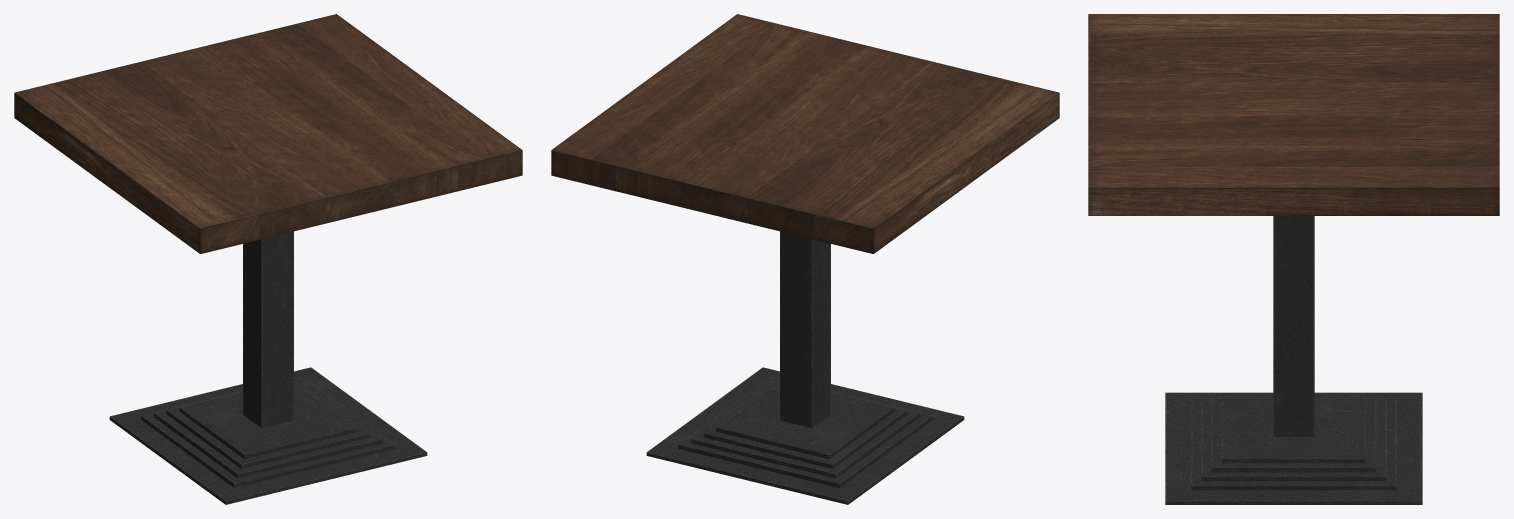
The picture shows the model from 3 angles, left to right: view 1: azimuth 30°, elevation 25°; view 2: azimuth 150°, elevation 25°; view 3: azimuth 270°, elevation 25°; orthographic projection. The views are drawn at different scales.
Visible parts, largest first — view 1: re_tb_01_0; view 2: re_tb_01_0; view 3: re_tb_01_0.
Part boxes in pixels (bbox=[...]): re_tb_01_0: bbox=[14, 14, 522, 504]; re_tb_01_0: bbox=[551, 14, 1059, 504]; re_tb_01_0: bbox=[1088, 14, 1499, 504].
Size of the model in its own units: 0.8 by 0.75 by 0.8.
Materials: 1 (1 with a texture image).
